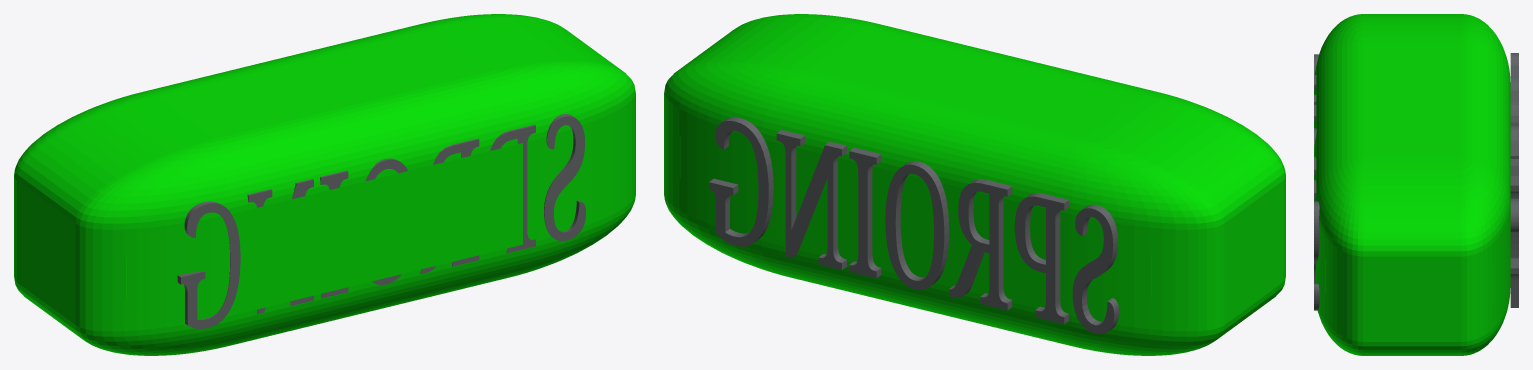
The model's file is sproingy.glb.
3 views of the same model, side by side, from view 1: azimuth 30°, elevation 25°; view 2: azimuth 150°, elevation 25°; view 3: azimuth 270°, elevation 25° (orthographic). The views are drawn at different scales.
Parts seen in each view (by area): view 1: Mesh_Mesh_head_geo.001_lambert2SG.001; view 2: Mesh_Mesh_head_geo.001_lambert2SG.001; view 3: Mesh_Mesh_head_geo.001_lambert2SG.001.
Boxes of the visible parts, x1,y1,x2,y2 form: Mesh_Mesh_head_geo.001_lambert2SG.001: [14, 14, 635, 355]; Mesh_Mesh_head_geo.001_lambert2SG.001: [664, 14, 1285, 355]; Mesh_Mesh_head_geo.001_lambert2SG.001: [1314, 14, 1518, 355].
Bounding box in the file's own units: 66 × 23 × 25.
